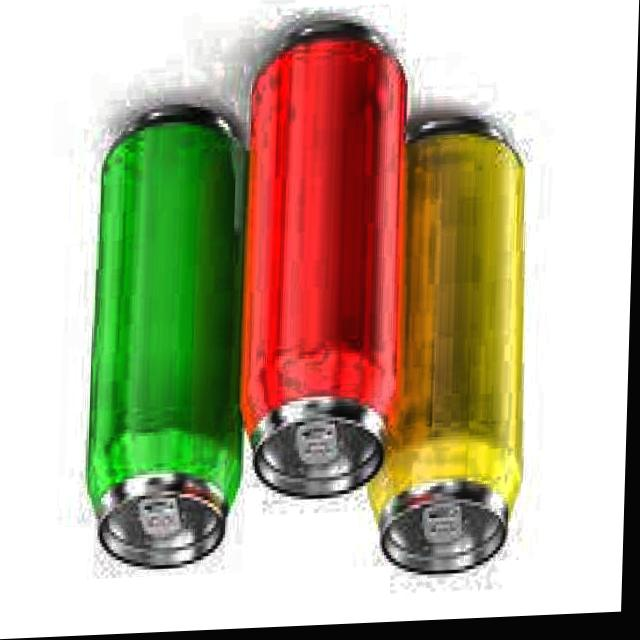can: (237, 12, 420, 513), (80, 98, 267, 579), (360, 109, 540, 591)
